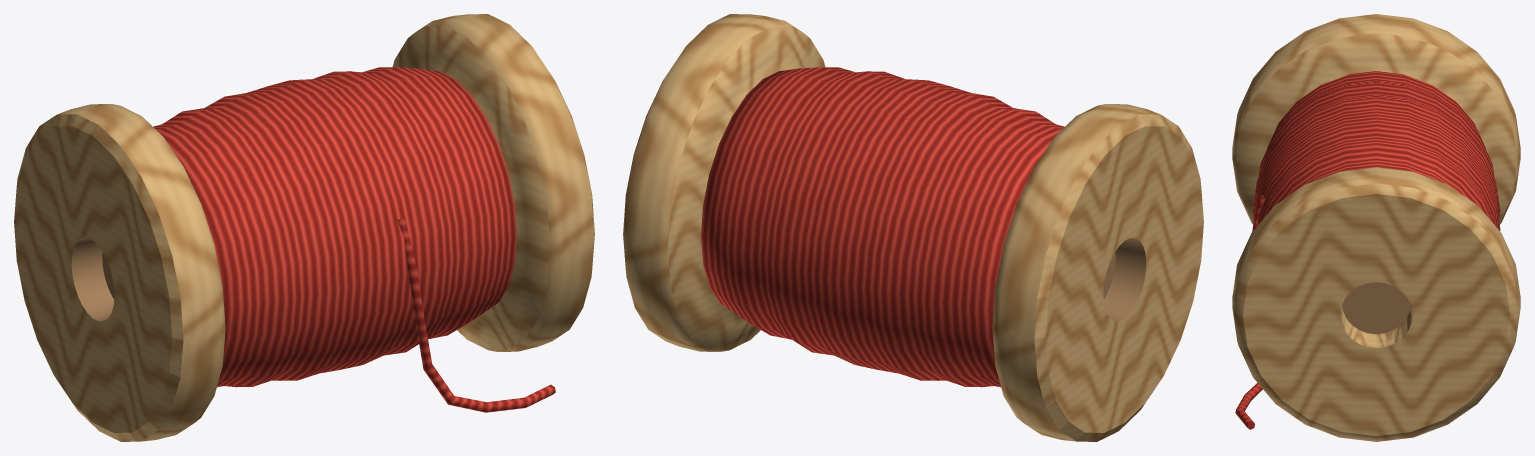
File: table_bobine.glb
3 renders of one model, left to right at view 1: azimuth 30°, elevation 25°; view 2: azimuth 150°, elevation 25°; view 3: azimuth 270°, elevation 25°, orthographic. The views are drawn at different scales.
Visible parts, largest first — view 1: table_bobine; view 2: table_bobine; view 3: table_bobine.
Boxes of the visible parts, bbox=[...] form: table_bobine: bbox=[14, 14, 594, 441]; table_bobine: bbox=[623, 14, 1203, 441]; table_bobine: bbox=[1232, 14, 1520, 441].
Size of the model in its own units: 5 by 3.5 by 3.5.
Materials: 3 (2 with a texture image).
